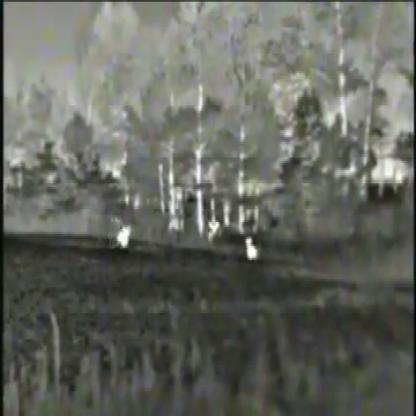rehkitze: (241, 238, 258, 269), (116, 222, 133, 250)
